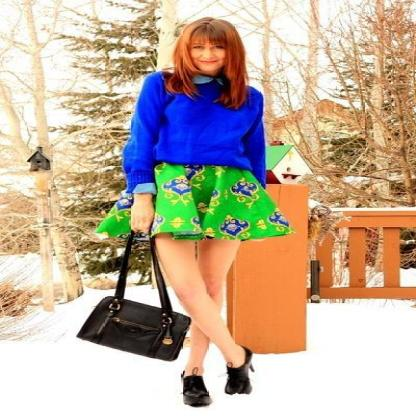bag: (76, 258, 190, 360)
shirt: (117, 75, 268, 207)
shoe: (181, 347, 253, 407)
skirt: (98, 162, 288, 245)
